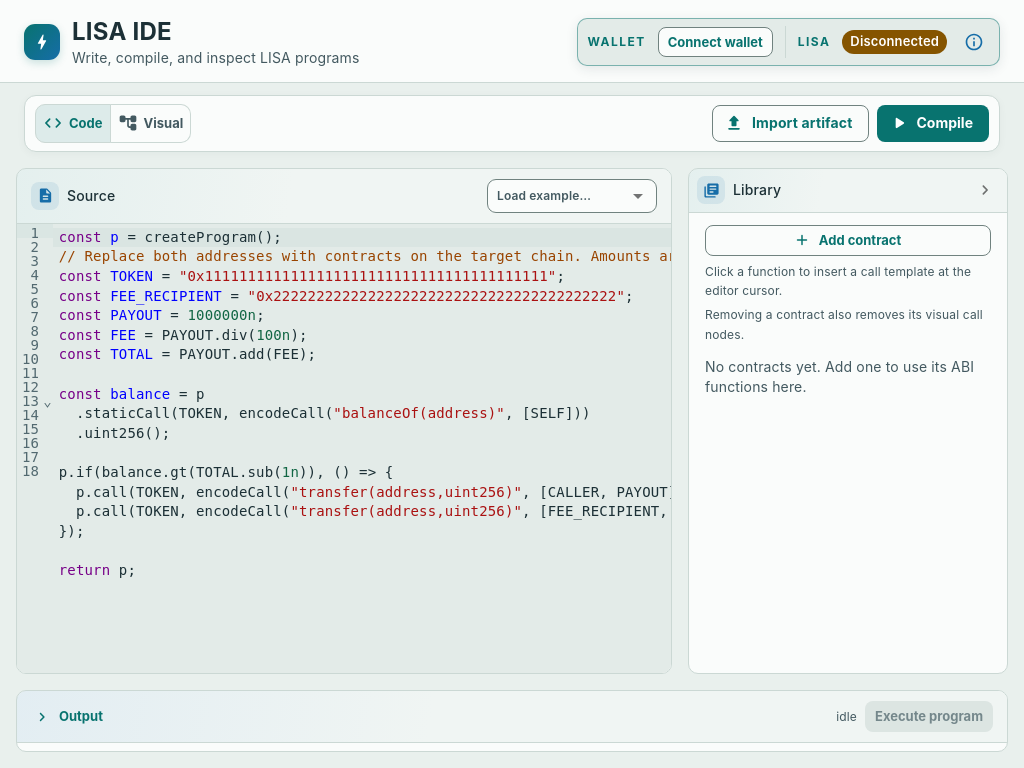
Test case: App › switches between code and visual authoring modes
Expected: the element named "LISA source editor" is shown, [17,224,671,673]
Click the button "Visual": [150, 123] box [110,104,191,143]
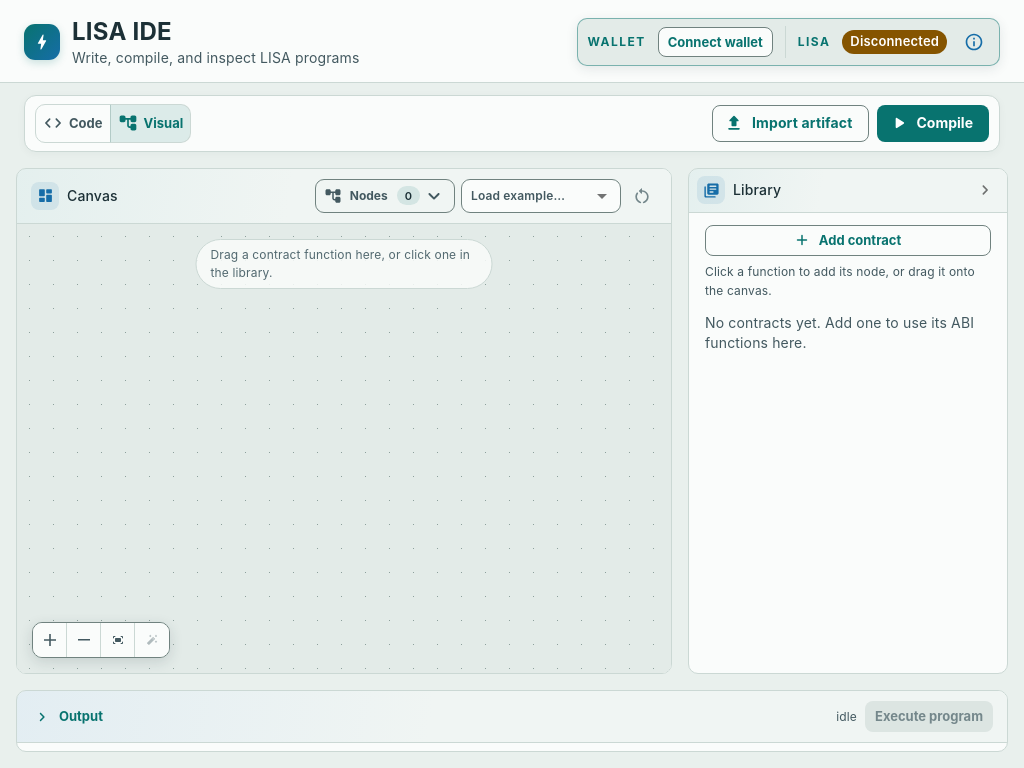
Expected: the element named "Visual canvas" is shown, [17,224,671,673]
Expected: the field labelled "LISA source editor" is gone
Click the button "Code": [73, 123] box [35,104,110,143]
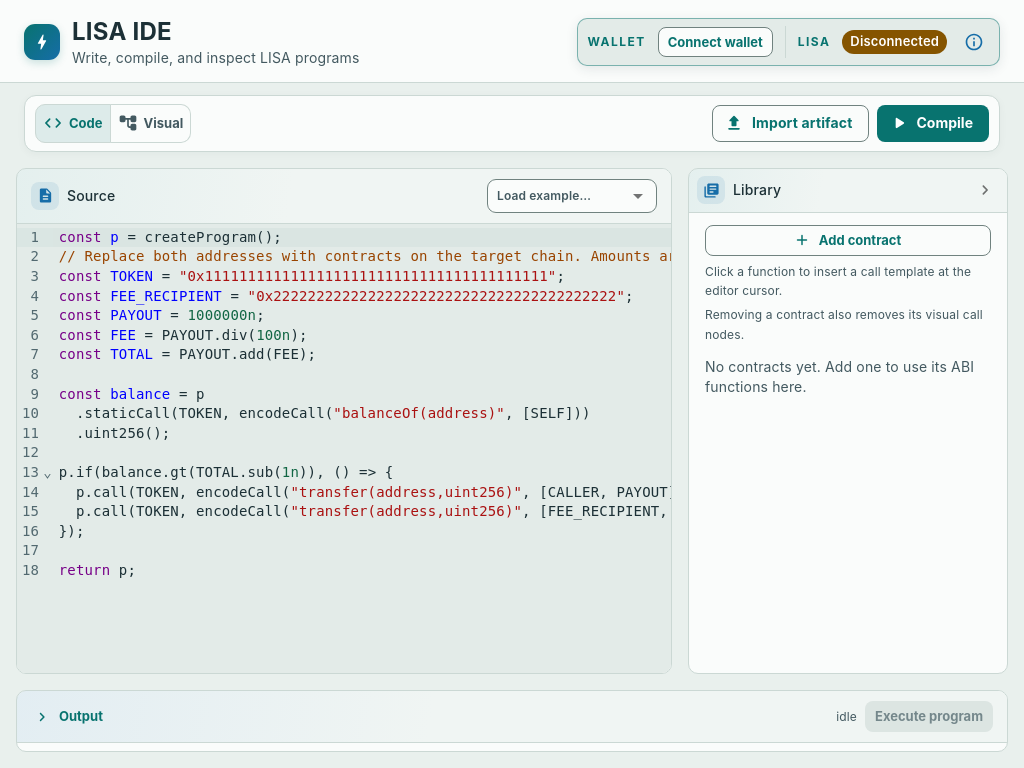
Expected: the element named "LISA source editor" is shown, [17,224,671,673]
